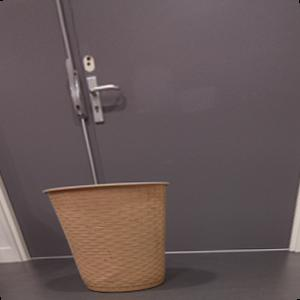medium: (41, 181, 168, 291)
